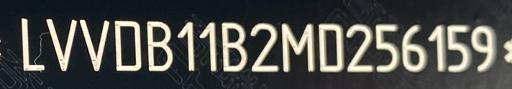letter: (279, 20, 317, 75), (44, 17, 78, 72), (77, 18, 111, 71), (143, 18, 175, 73), (111, 18, 143, 73), (248, 21, 280, 74), (398, 22, 430, 73), (18, 15, 46, 72), (316, 20, 346, 73), (469, 22, 499, 75), (444, 22, 474, 75), (345, 22, 375, 73), (220, 20, 248, 73), (373, 21, 401, 74), (424, 22, 448, 73), (196, 19, 218, 74), (174, 20, 196, 73)
